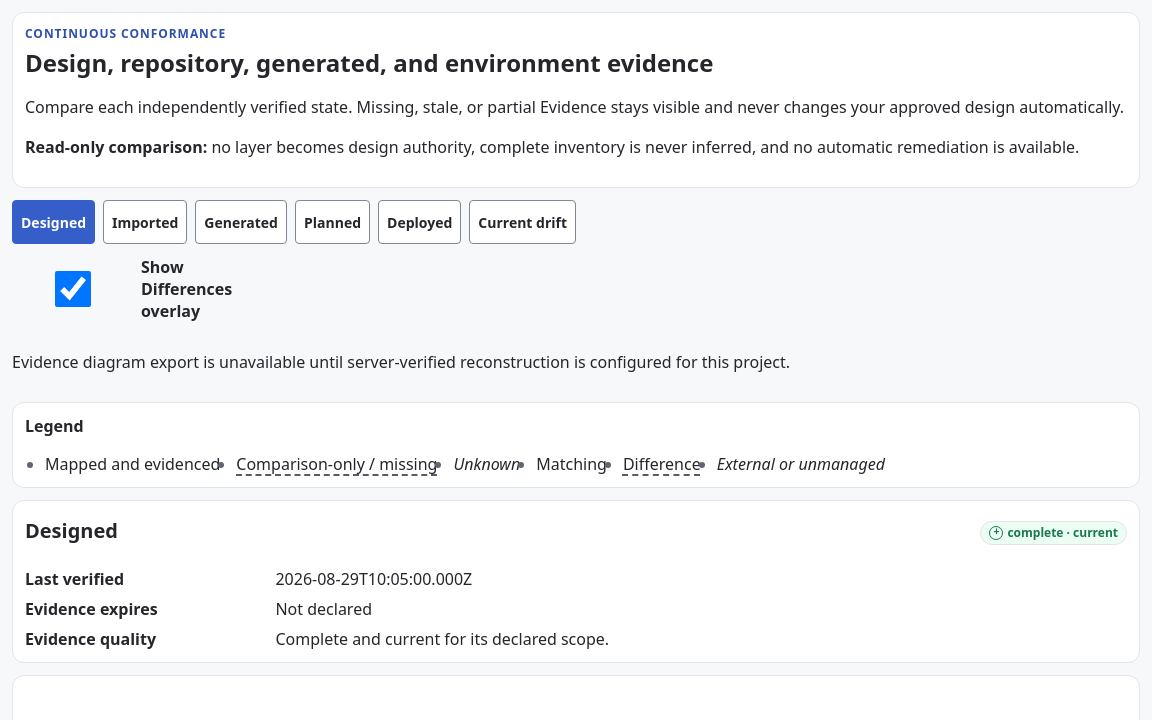
Scenario: ContinuousConformanceWorkspace › never describes partial current evidence as complete and shows its expiry
Click the button "Generated": {"x": 241, "y": 222} [195,200,287,244]
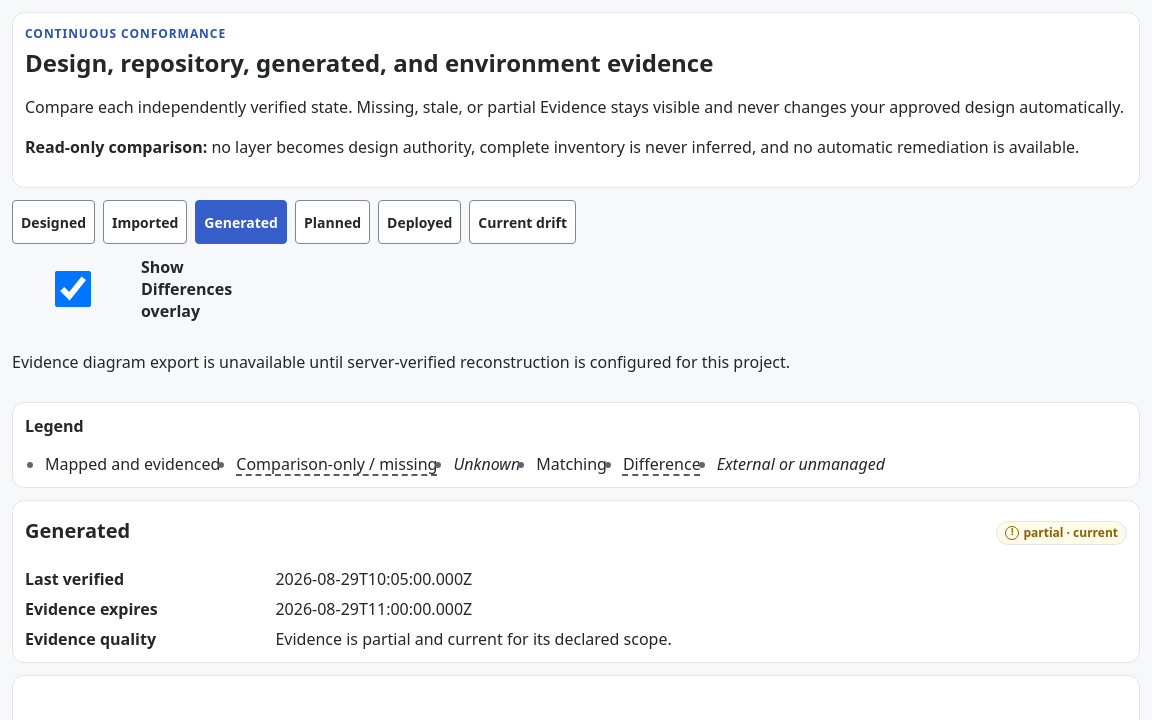
Expected: the text "partial · current" is shown, [1023,527,1118,539]
Expected: the text "Evidence is partial and current for its declared scope." is shown, [275,628,672,650]
Expected: the text "2026-08-29T11:00:00.000Z" is shown, [275,598,472,620]
